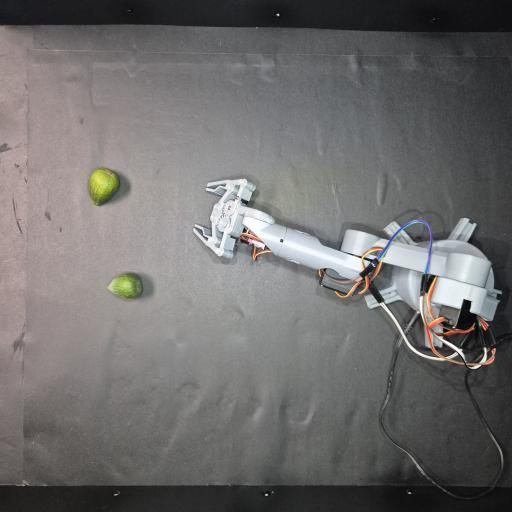higo: (88, 168, 120, 205), (107, 273, 142, 299)
